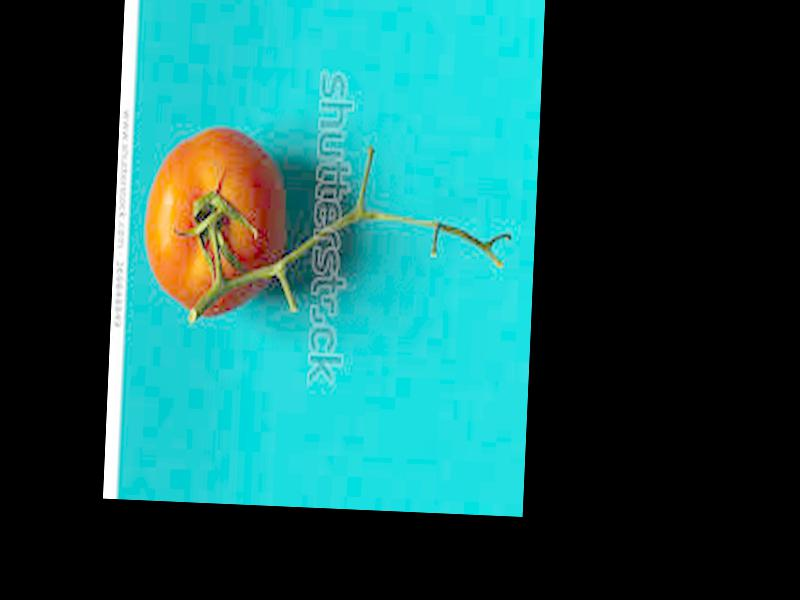Tomato: (143, 125, 286, 321)
